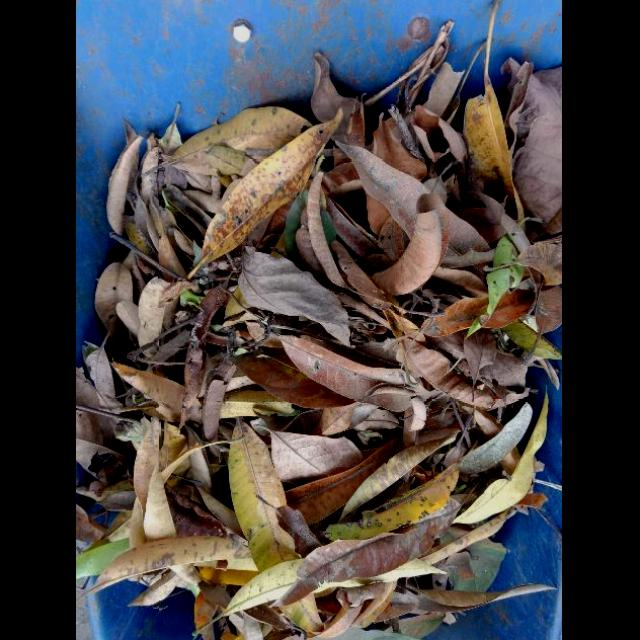la_cay: (186, 107, 344, 280), (269, 498, 462, 607), (330, 131, 492, 259), (363, 20, 468, 175), (463, 1, 524, 224), (453, 383, 548, 525), (276, 333, 427, 421), (337, 425, 462, 523), (141, 106, 312, 176), (238, 245, 352, 347), (76, 535, 252, 600), (228, 416, 300, 572), (501, 56, 562, 234), (325, 462, 460, 541), (285, 436, 404, 525), (403, 338, 530, 410), (191, 558, 305, 637), (331, 240, 445, 316), (421, 265, 536, 338), (370, 193, 449, 295), (179, 281, 228, 428), (229, 353, 356, 409), (125, 416, 177, 547), (307, 171, 362, 294), (262, 426, 364, 484), (134, 276, 194, 355), (409, 583, 557, 615), (112, 361, 184, 422), (106, 136, 143, 235), (95, 261, 133, 345), (85, 334, 123, 414), (201, 363, 232, 443), (463, 328, 497, 392), (279, 591, 326, 632), (316, 604, 364, 638), (205, 446, 222, 464)
